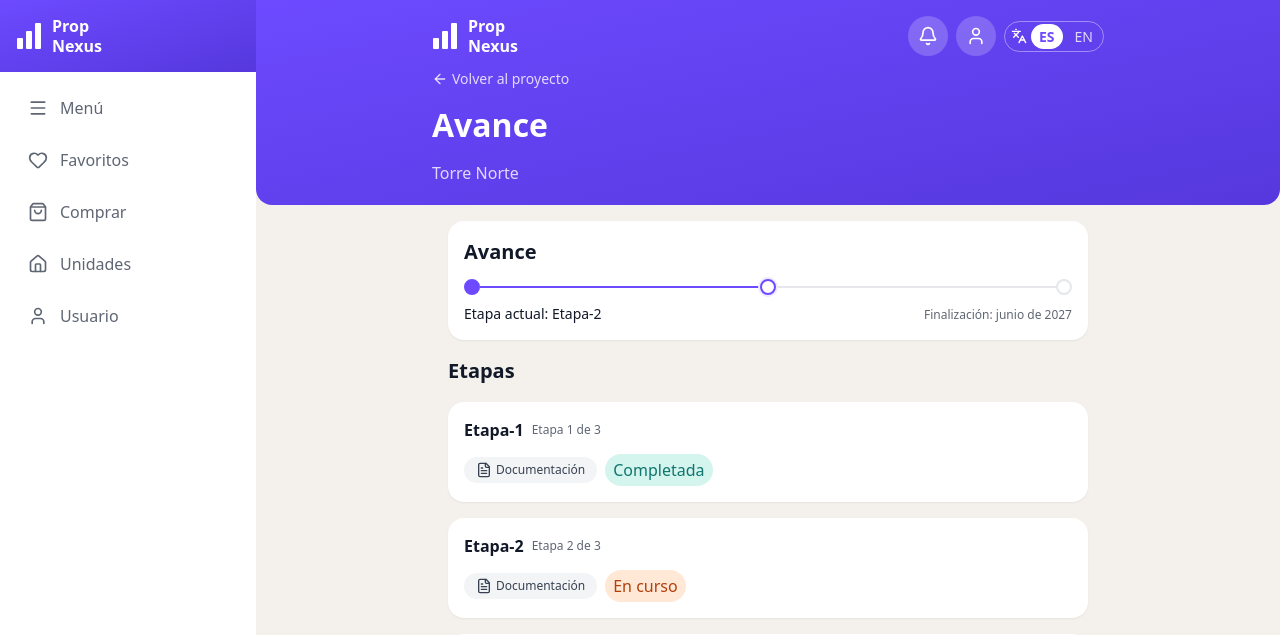
/project/:projectId/progress (investor) › volver lleva al proyecto
Click the button "Volver al proyecto" at (501, 78), box x1=432 y1=68 x2=569 y2=89
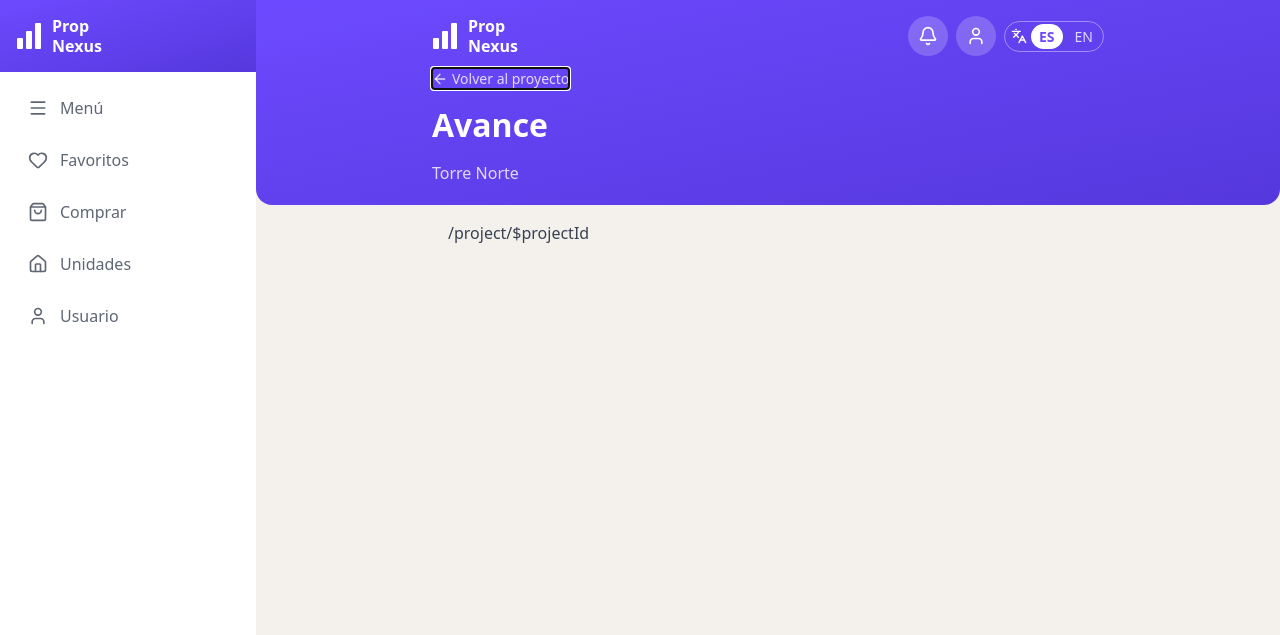
Expected: the text "/project/$projectId" is shown, x1=448 y1=222 x2=589 y2=244
